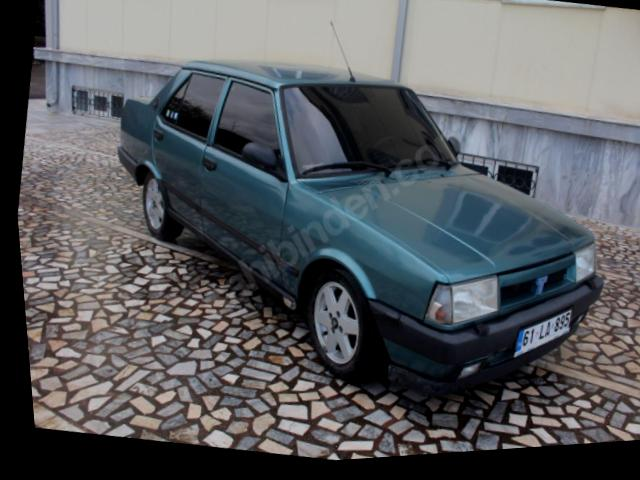plaka: (515, 309, 571, 356)
